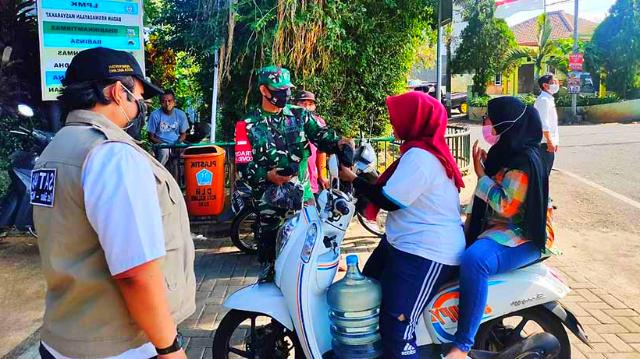motor: (242, 183, 575, 359)
non-helm: (389, 93, 447, 144), (480, 98, 538, 148)
